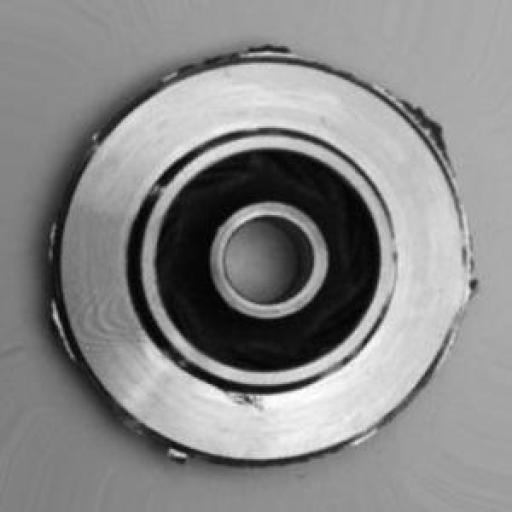defect: (34, 32, 498, 485)
